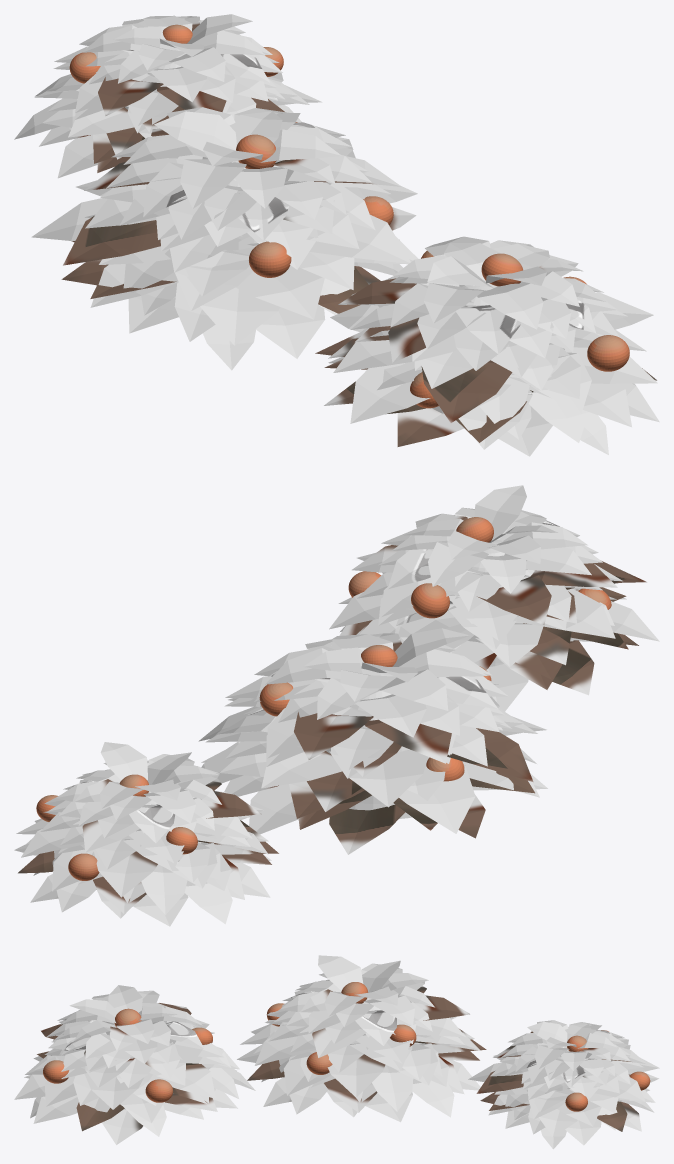
File: bushes.fbx
3 renders of one model, top to bottom at view 1: azimuth 30°, elevation 25°; view 2: azimuth 150°, elevation 25°; view 3: azimuth 270°, elevation 25°, orthographic. The views are drawn at different scales.
Parts seen in each view (by area): view 1: Plane.003, Plane.002, Plane.005, Sphere.001, Sphere.002, Sphere.003; view 2: Plane.003, Plane.002, Plane.005, Sphere.001, Sphere.002, Sphere.003; view 3: Plane.003, Plane.002, Plane.005, Sphere.001, Sphere.002, Sphere.003.
Part boxes in pixels (x1=…): Plane.003: x1=31, y1=107, x2=418, y2=370; Plane.002: x1=315, y1=236, x2=659, y2=456; Plane.005: x1=14, y1=14, x2=322, y2=178; Sphere.001: x1=410, y1=251, x2=629, y2=408; Sphere.002: x1=236, y1=122, x2=393, y2=277; Sphere.003: x1=69, y1=24, x2=283, y2=83; Plane.003: x1=198, y1=628, x2=547, y2=854; Plane.002: x1=329, y1=485, x2=659, y2=711; Plane.005: x1=14, y1=742, x2=278, y2=926; Sphere.001: x1=348, y1=517, x2=611, y2=618; Sphere.002: x1=259, y1=645, x2=491, y2=781; Sphere.003: x1=36, y1=774, x2=197, y2=880; Plane.003: x1=237, y1=955, x2=486, y2=1122; Plane.002: x1=14, y1=985, x2=255, y2=1144; Plane.005: x1=468, y1=1020, x2=659, y2=1149; Sphere.001: x1=43, y1=1008, x2=212, y2=1102; Sphere.002: x1=266, y1=982, x2=416, y2=1074; Sphere.003: x1=565, y1=1030, x2=650, y2=1111.
Size of the model in its own units: 581 by 239 by 1255.
